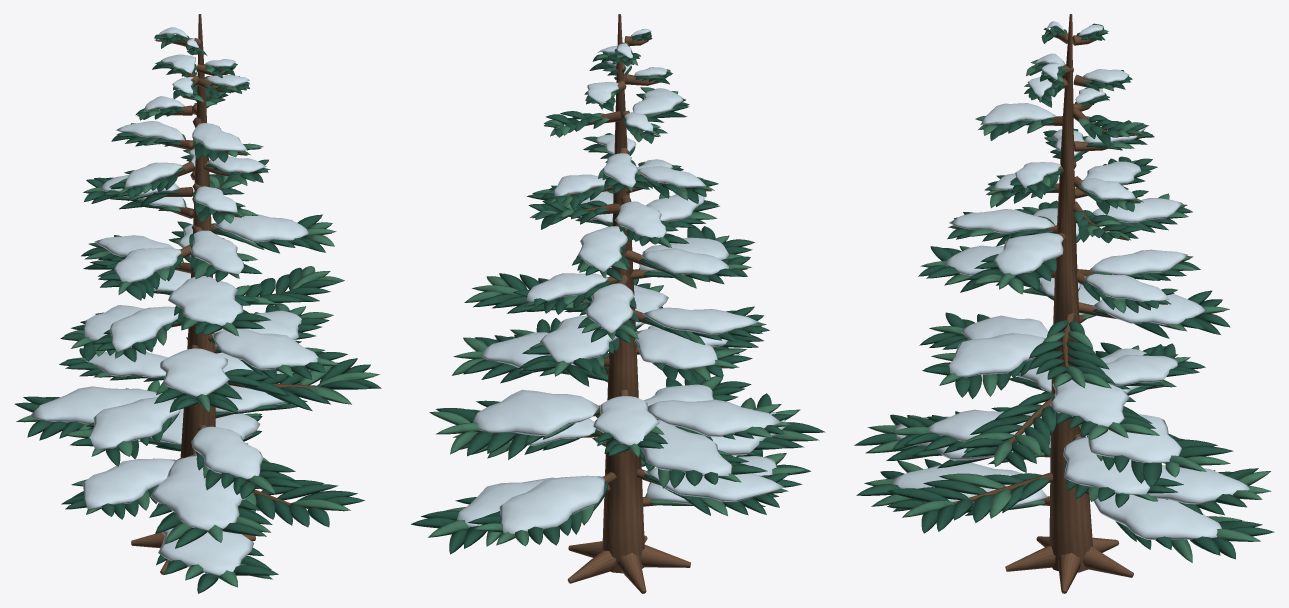
The model's file is pine_1.glb.
3 renders of one model, left to right at view 1: azimuth 30°, elevation 25°; view 2: azimuth 150°, elevation 25°; view 3: azimuth 270°, elevation 25°, orthographic. The views are drawn at different scales.
Visible parts, largest first — view 1: pine_1; view 2: pine_1; view 3: pine_1.
Boxes of the visible parts, <box> form: pine_1: <box>15,14,381,593</box>; pine_1: <box>411,14,825,593</box>; pine_1: <box>854,14,1274,593</box>.
Size of the model in its own units: 2.63 by 4.37 by 3.01.
Materials: 4 (4 with a texture image).
